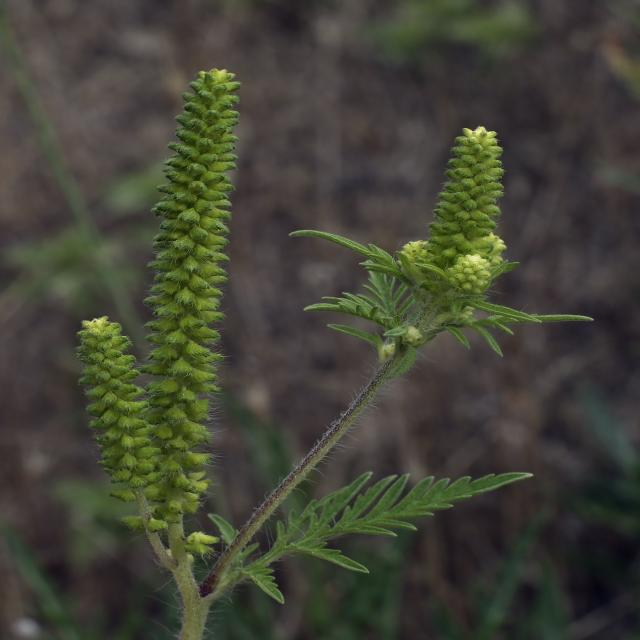ambrosia: (118, 56, 235, 554), (342, 128, 617, 325), (22, 292, 190, 494)
